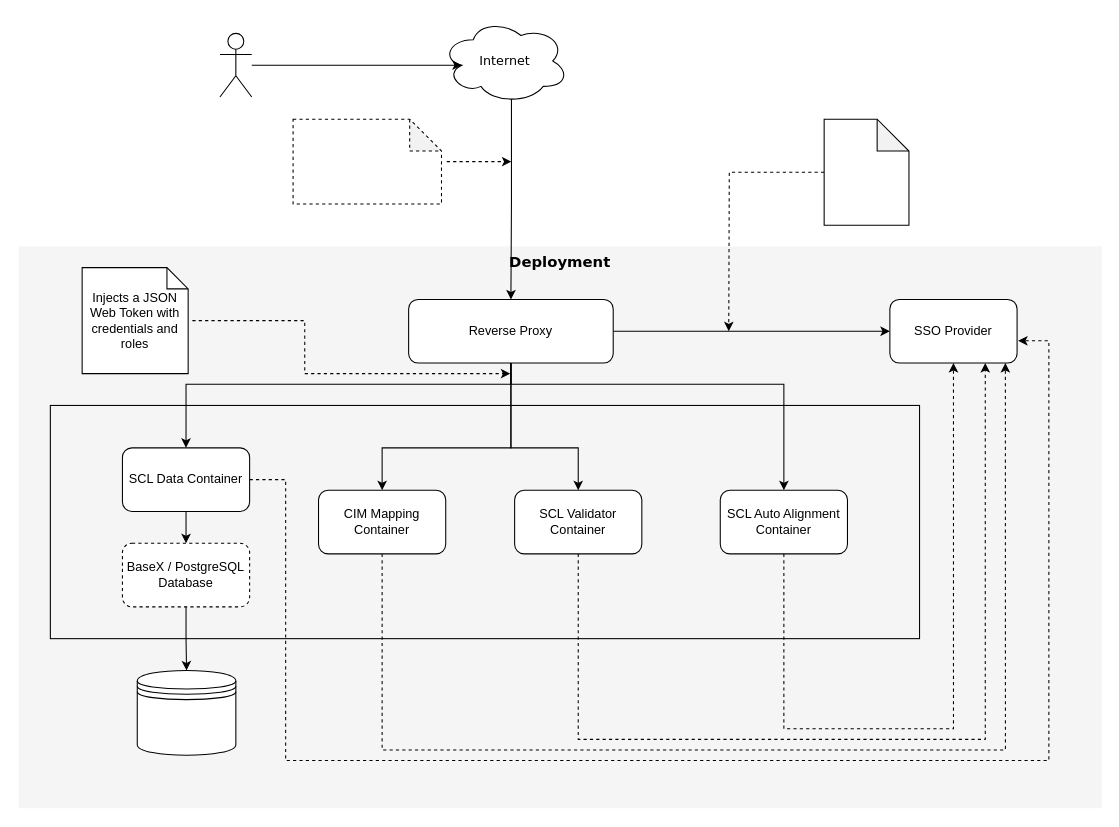
The diagram is 1119 pixels wide and 827 high, and some of its shapes have lost their labels. The box of each missing label's shape, as (x1, y1, x2, y2) in pixels:
Container Environment / Kubernetes: (49, 404, 920, 639)
Engineer: (219, 32, 252, 97)
Persistent Storage: (136, 669, 236, 755)
Single URL to access both Web Application and REST Services: (292, 118, 441, 204)
User logs in using a SSO Provider: (823, 118, 909, 225)
